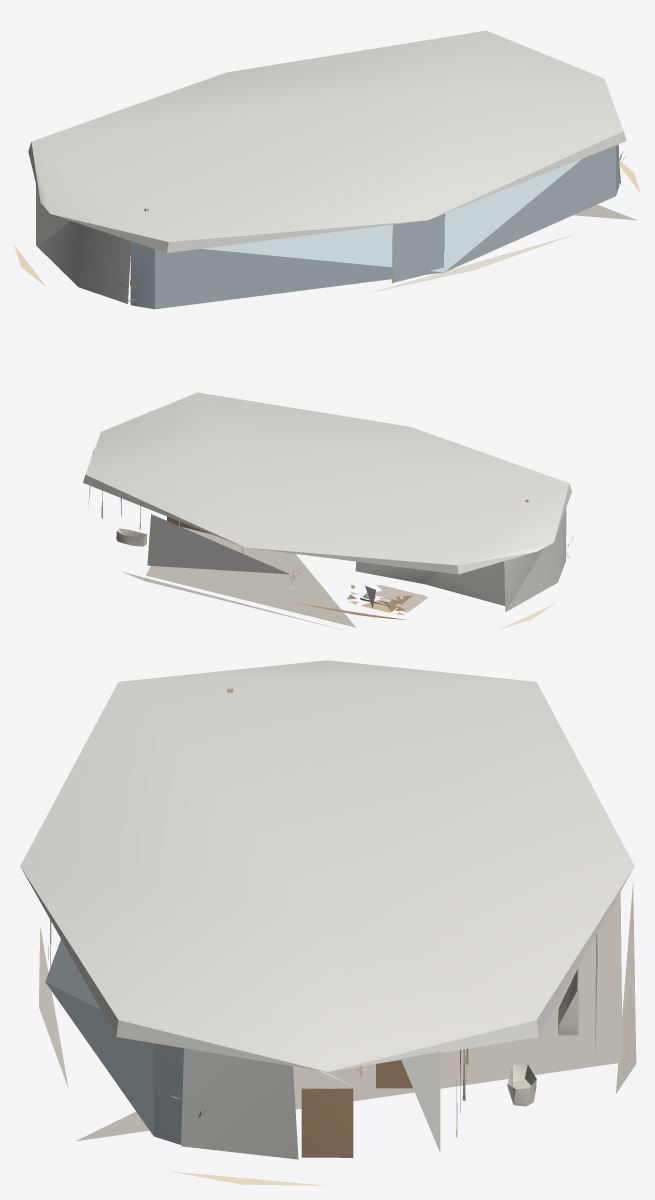
File: Nautilus_LOD0.dae
3 renders of one model, top to bottom at view 1: azimuth 30°, elevation 25°; view 2: azimuth 150°, elevation 25°; view 3: azimuth 270°, elevation 25°, orthographic. The views are drawn at different scales.
Parts seen in each view (by area): view 1: Nautilus_Roof_LOD0, Nautilus_Glass_S_LOD0, Nautilus_Wall_W_LOD0, Nautilus_Door_S_LOD0, Nautilus_Floor_LOD0; view 2: Nautilus_Roof_LOD0, Nautilus_Floor_LOD0, Nautilus_Wall_N_LOD0, Nautilus_Partition_LOD0, Nautilus_Wall_W_LOD0, Nautilus_Bed_LOD0, Nautilus_Bed_Rug_LOD0, Nautilus_Bathtub_LOD0; view 3: Nautilus_Roof_LOD0, Nautilus_Floor_LOD0, Nautilus_Wall_E_LOD0, Nautilus_Glass_S_LOD0, Nautilus_Door_E_LOD0, Nautilus_Bathtub_LOD0, Nautilus_Vanity_LOD0, Nautilus_Island_LOD0.
Boxes of the visible parts, left/top/right/bottom form: Nautilus_Roof_LOD0: left=28, top=30, right=626, bottom=252; Nautilus_Glass_S_LOD0: left=130, top=144, right=619, bottom=309; Nautilus_Wall_W_LOD0: left=36, top=185, right=131, bottom=303; Nautilus_Door_S_LOD0: left=392, top=214, right=444, bottom=283; Nautilus_Floor_LOD0: left=14, top=161, right=640, bottom=292; Nautilus_Roof_LOD0: left=83, top=392, right=571, bottom=574; Nautilus_Floor_LOD0: left=99, top=490, right=555, bottom=629; Nautilus_Wall_N_LOD0: left=147, top=514, right=405, bottom=619; Nautilus_Partition_LOD0: left=355, top=561, right=504, bottom=605; Nautilus_Wall_W_LOD0: left=504, top=508, right=566, bottom=612; Nautilus_Bed_LOD0: left=360, top=586, right=412, bottom=613; Nautilus_Bed_Rug_LOD0: left=376, top=585, right=428, bottom=612; Nautilus_Bathtub_LOD0: left=116, top=528, right=146, bottom=546; Nautilus_Roof_LOD0: left=20, top=660, right=634, bottom=1071; Nautilus_Floor_LOD0: left=39, top=882, right=636, bottom=1185; Nautilus_Wall_E_LOD0: left=181, top=1048, right=440, bottom=1159; Nautilus_Glass_S_LOD0: left=45, top=939, right=183, bottom=1144; Nautilus_Door_E_LOD0: left=301, top=1088, right=353, bottom=1157; Nautilus_Bathtub_LOD0: left=507, top=1064, right=536, bottom=1106; Nautilus_Vanity_LOD0: left=558, top=968, right=578, bottom=1035; Nautilus_Island_LOD0: left=376, top=1060, right=412, bottom=1088.
Size of the model in its own units: 27.44 by 17.44 by 4.94.
